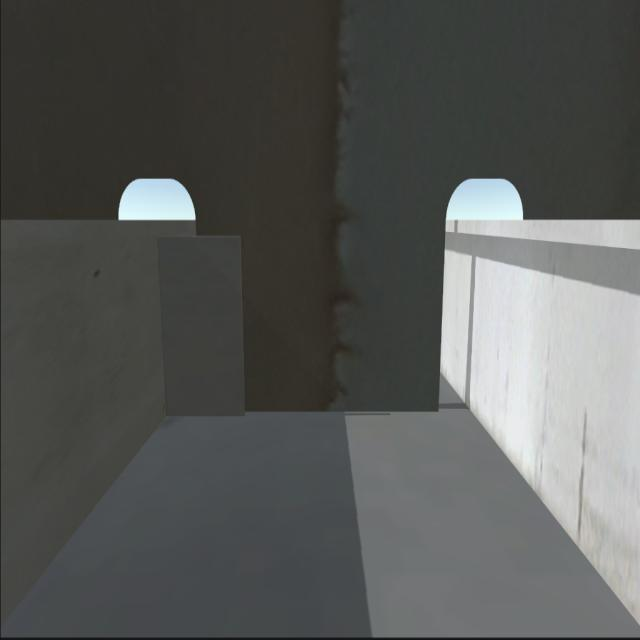fillet_yong_jeop_jang: (168, 399, 439, 425)
longi_yong_jeop_jang: (152, 232, 174, 415)
plate_CP01: (154, 229, 248, 415), (273, 514, 273, 515)
